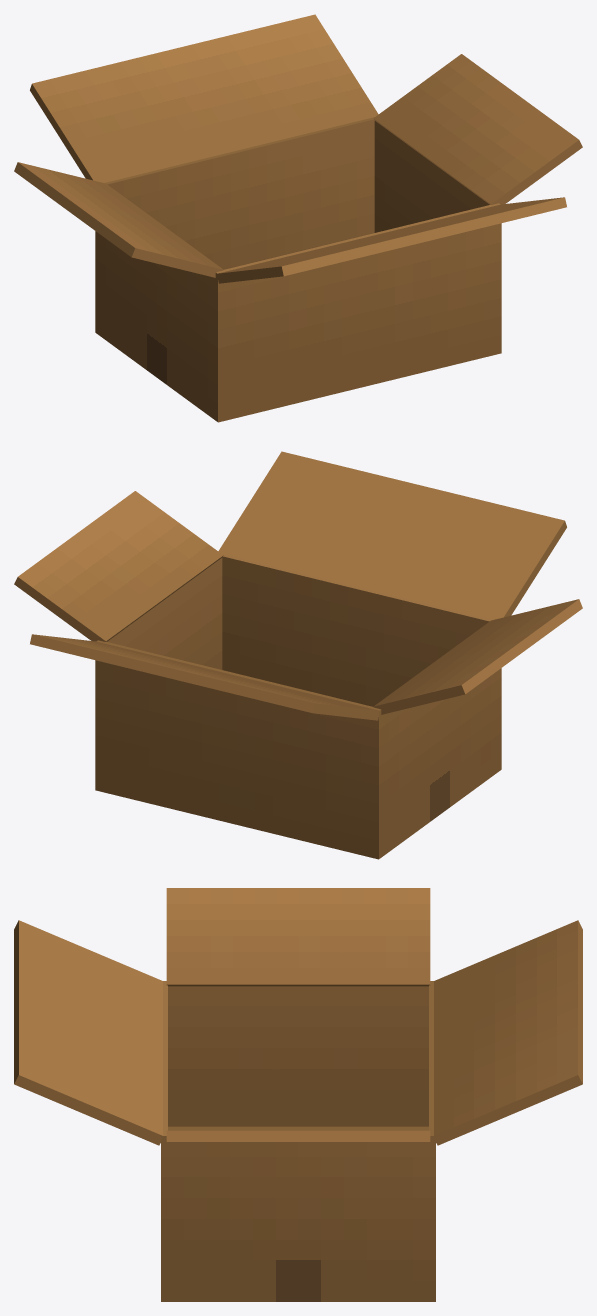
The model's file is danbo-ru.fbx.
The picture shows the model from 3 angles, top to bottom: view 1: azimuth 30°, elevation 25°; view 2: azimuth 150°, elevation 25°; view 3: azimuth 270°, elevation 25°; orthographic projection. The views are drawn at different scales.
Parts seen in each view (by area): view 1: cuboid, cuboid_5, cuboid_3, cuboid_4, cuboid_6; view 2: cuboid, cuboid_6, cuboid_3, cuboid_4, cuboid_5; view 3: cuboid, cuboid_4, cuboid_5, cuboid_6, cuboid_3, cuboid_2.
Boxes of the visible parts, <box> form: cuboid: <box>95,117,501,422</box>; cuboid_5: <box>30,14,378,182</box>; cuboid_3: <box>373,54,582,204</box>; cuboid_4: <box>14,162,223,277</box>; cuboid_6: <box>217,197,566,283</box>; cuboid: <box>95,554,501,859</box>; cuboid_6: <box>218,451,566,619</box>; cuboid_3: <box>14,491,223,641</box>; cuboid_4: <box>373,599,582,714</box>; cuboid_5: <box>30,634,378,720</box>; cuboid: <box>161,981,435,1301</box>; cuboid_4: <box>166,888,430,986</box>; cuboid_5: <box>433,920,582,1145</box>; cuboid_6: <box>14,920,163,1145</box>; cuboid_3: <box>166,1130,430,1141</box>; cuboid_2: <box>168,1126,428,1130</box>.
Bounding box in the file's own units: 159 × 68.33 × 155.
